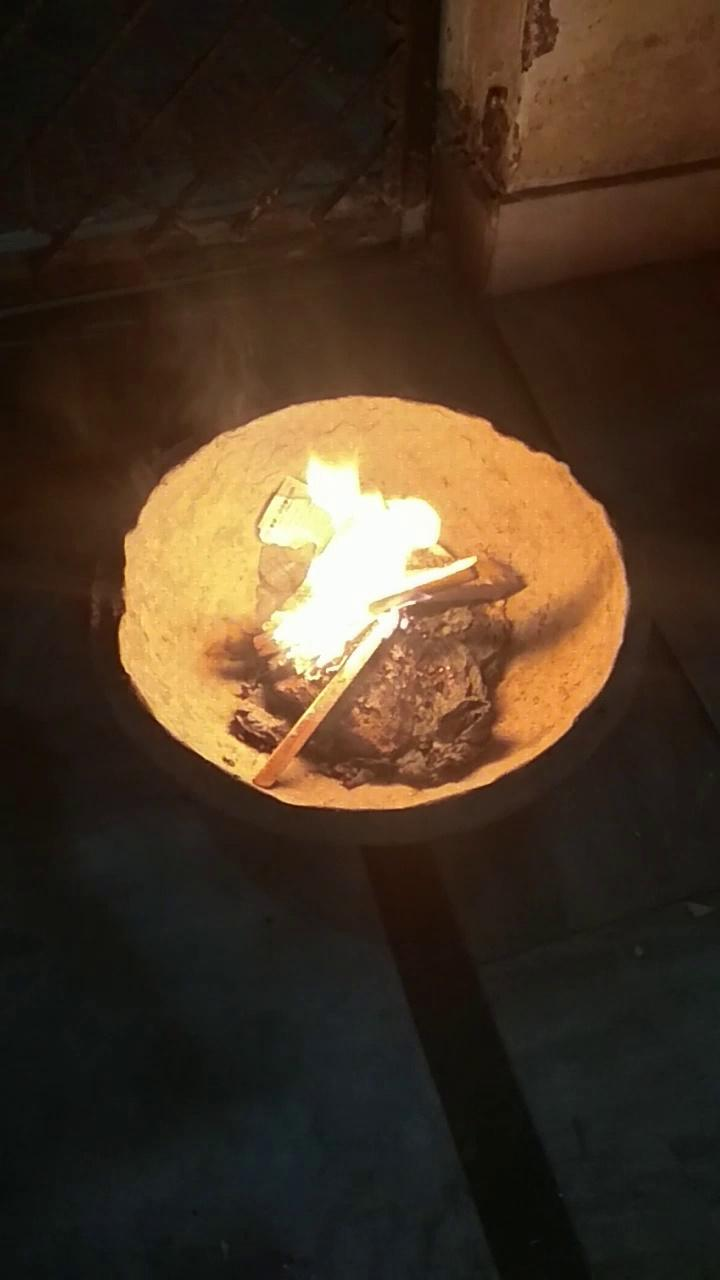fire: (224, 414, 486, 642)
